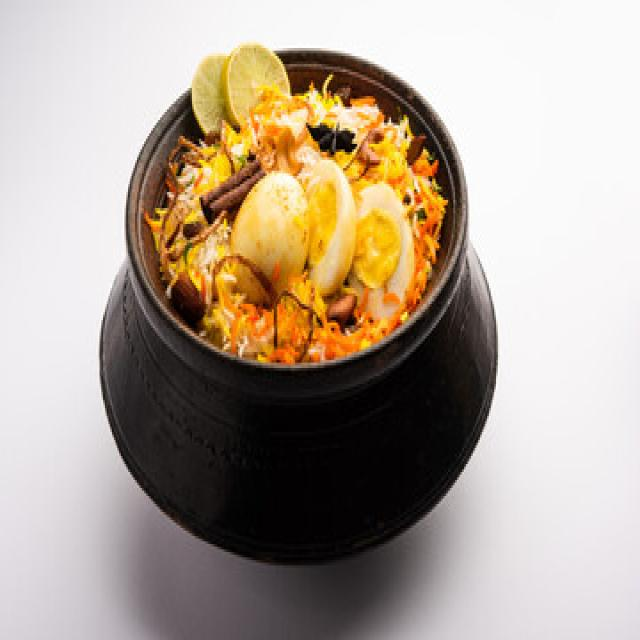BIRIYANI: (155, 41, 449, 368)
EGG: (235, 165, 414, 308)
